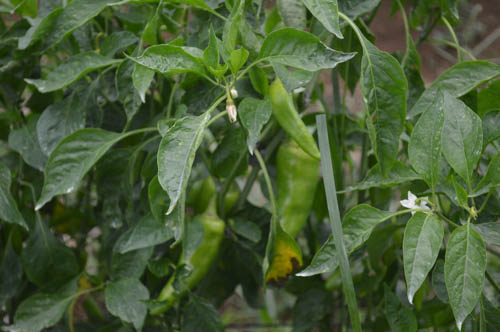ChiliPepper: (145, 220, 221, 315), (277, 148, 319, 241), (270, 84, 322, 157)
